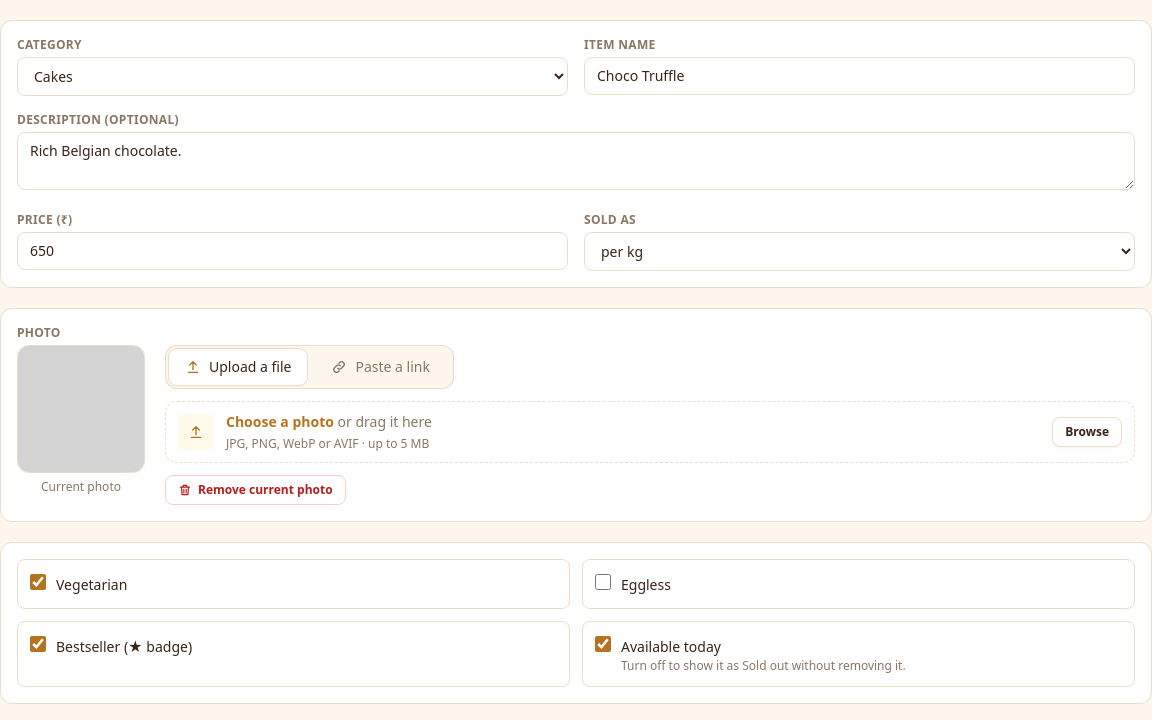
it: removing the current photo › puts the photo back on Undo
Click the button "Remove current photo".
click(255, 490)  # box x1=165 y1=475 x2=346 y2=505
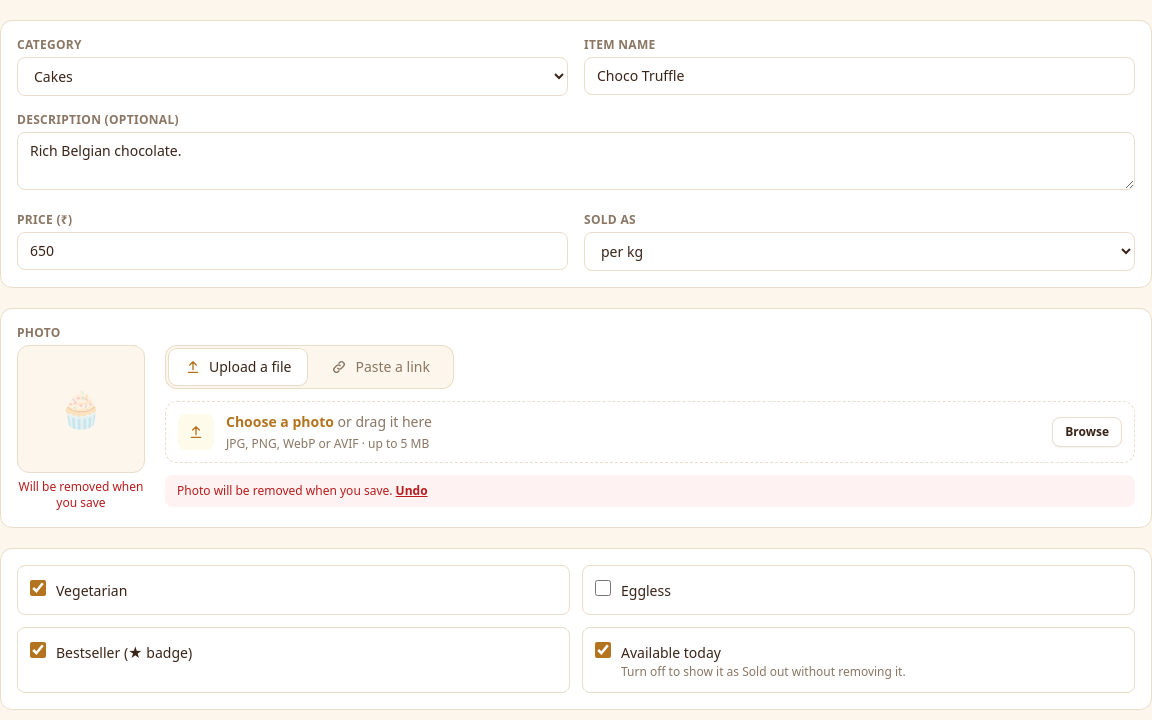
Click the button "Undo".
click(412, 491)  # box x1=396 y1=483 x2=428 y2=499
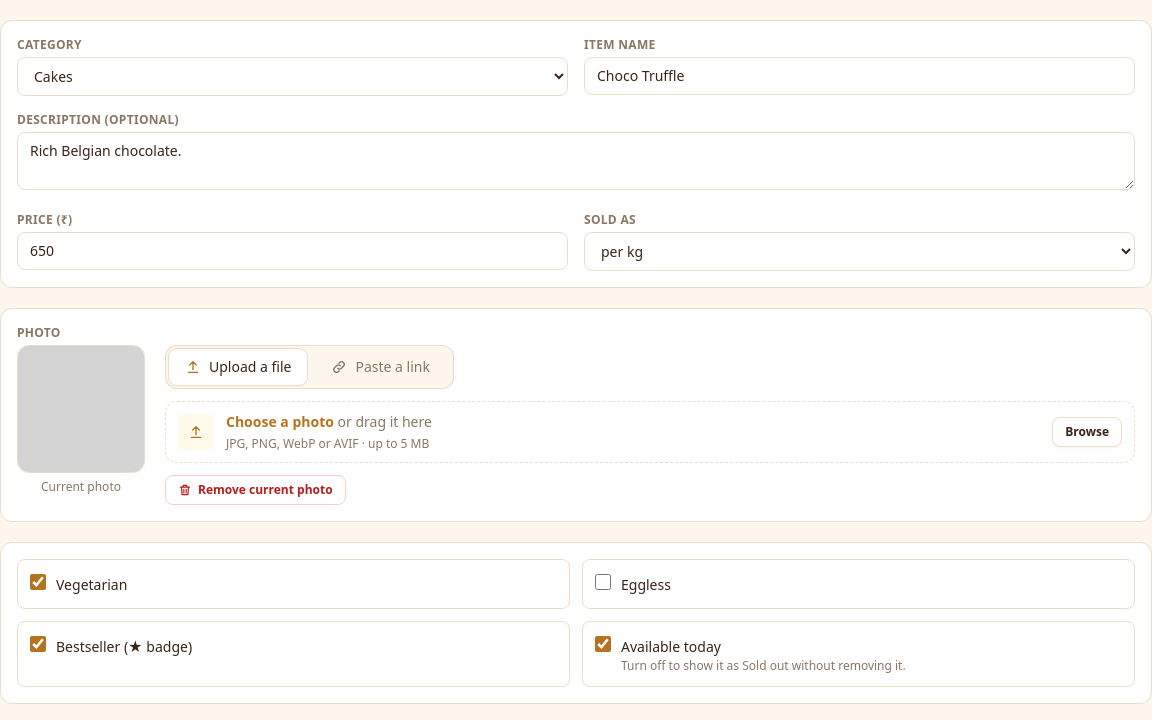
Expected: the text "Photo will be removed" is gone
